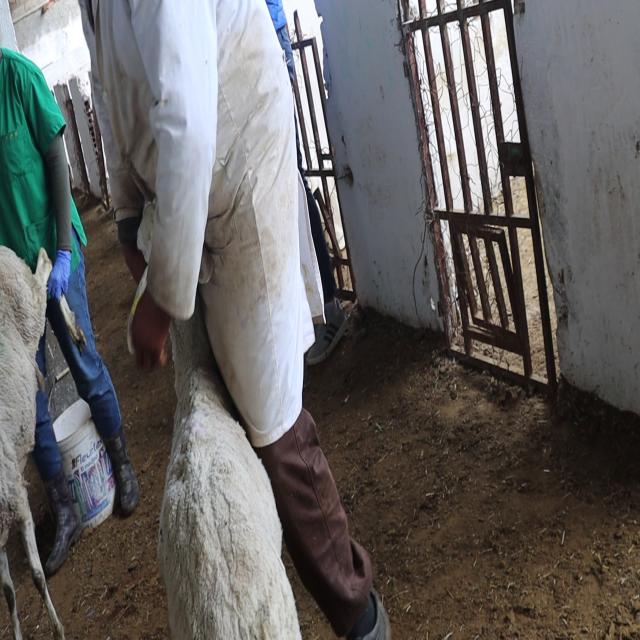Score_1: (157, 305, 301, 639)
